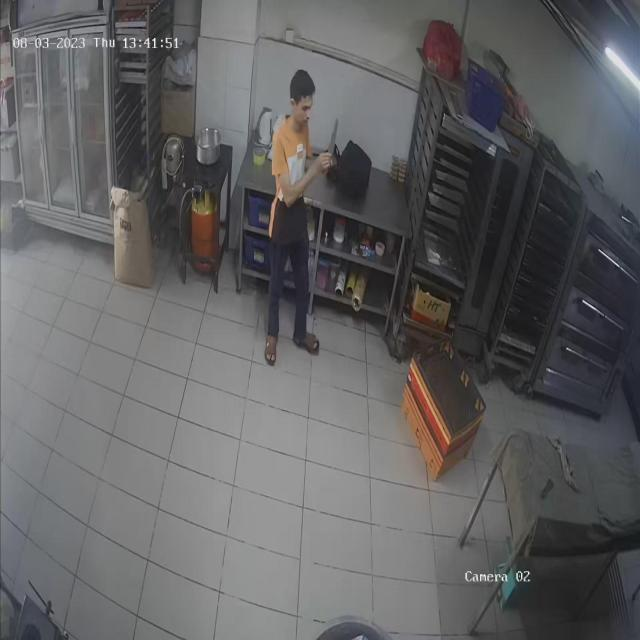Knife: (318, 113, 351, 167)
